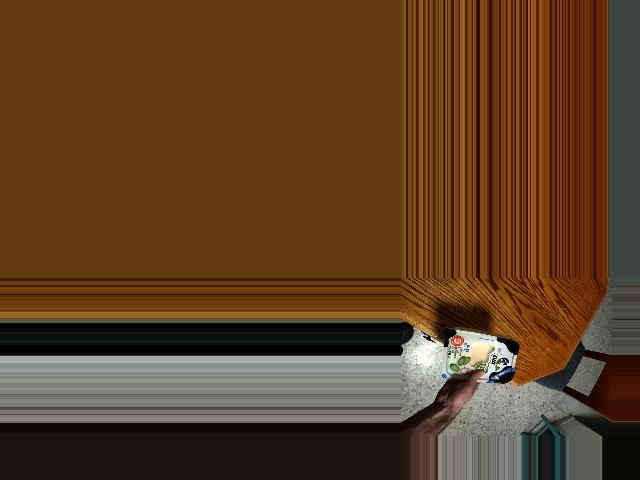cheese: (447, 337, 517, 381)
